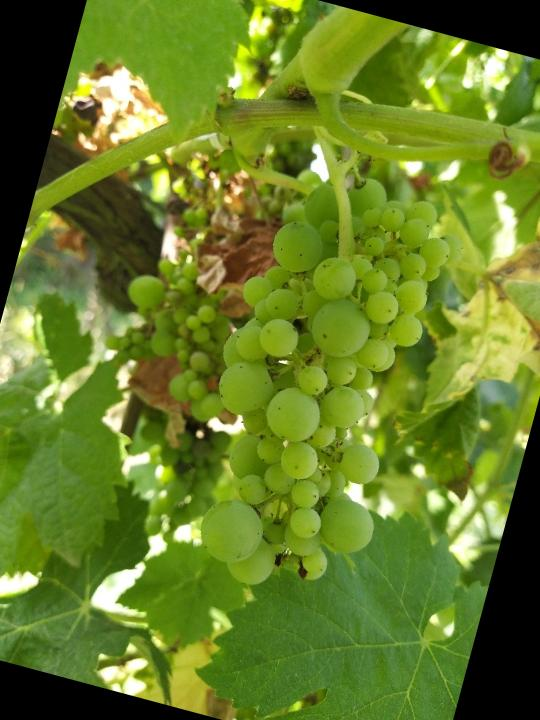grape: (165, 148, 468, 615)
